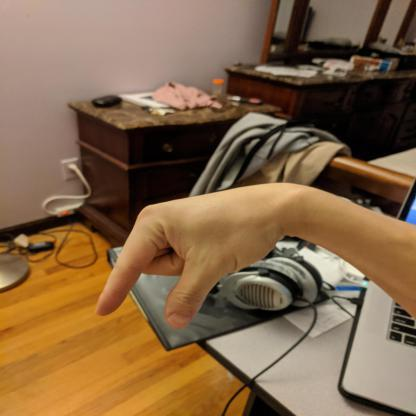Q: (95, 182, 287, 329)
